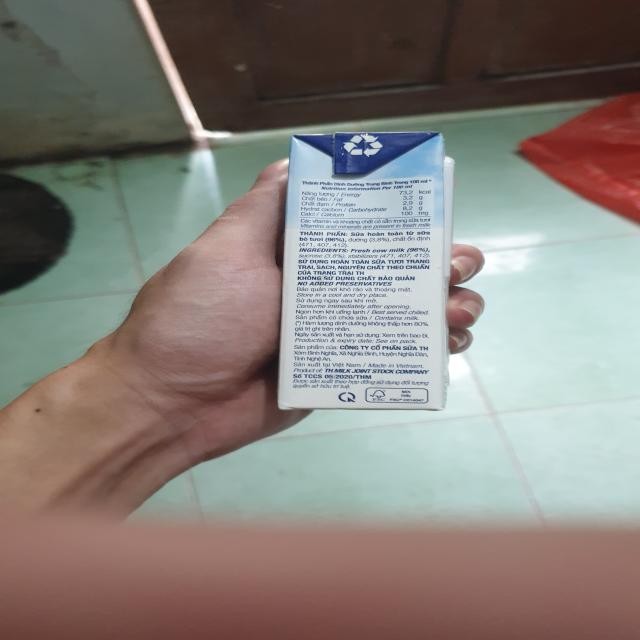TH: (275, 133, 452, 409)
